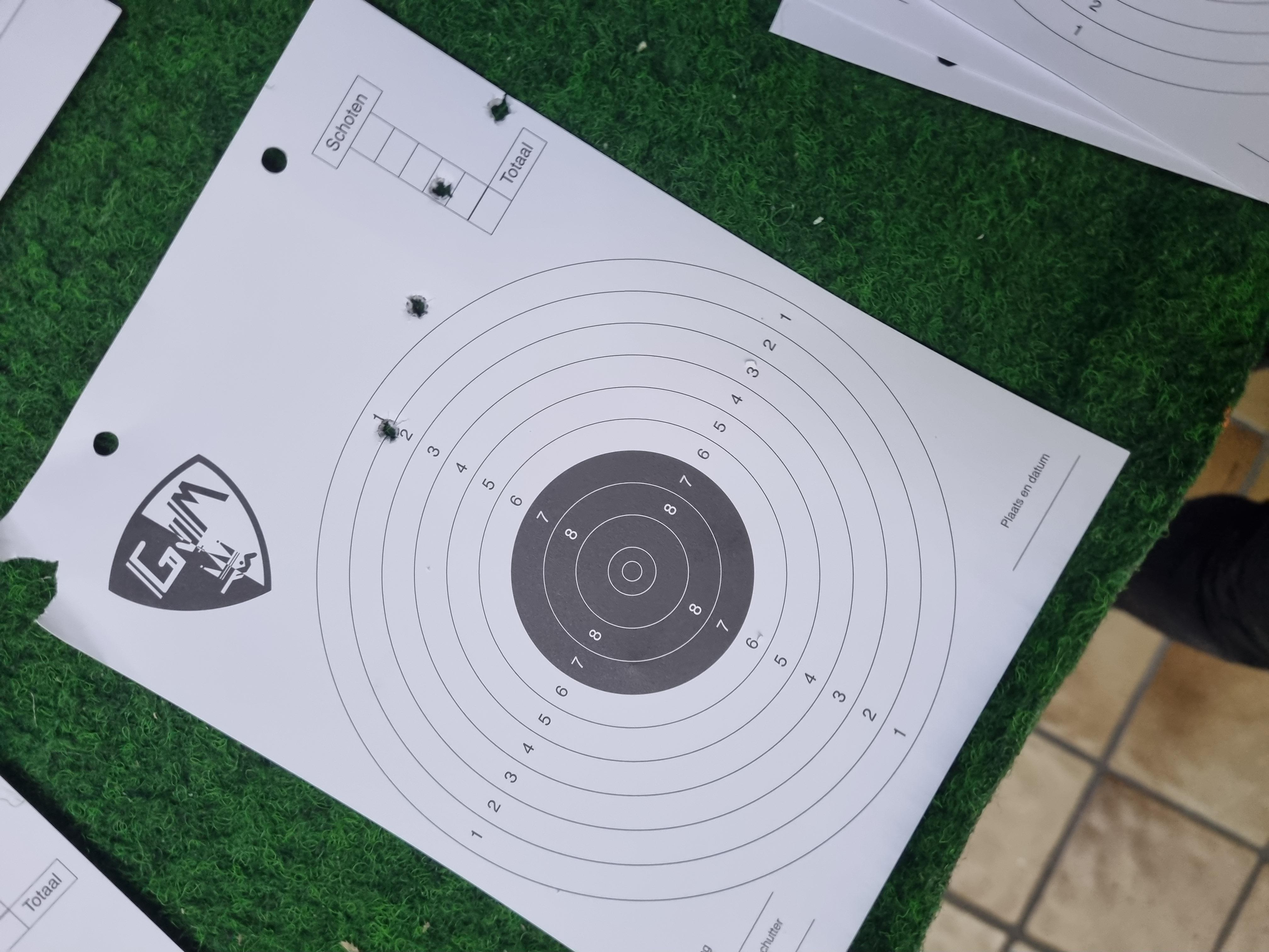hole: (231, 611, 268, 633), (127, 568, 164, 588), (391, 629, 424, 648), (558, 651, 591, 670)
